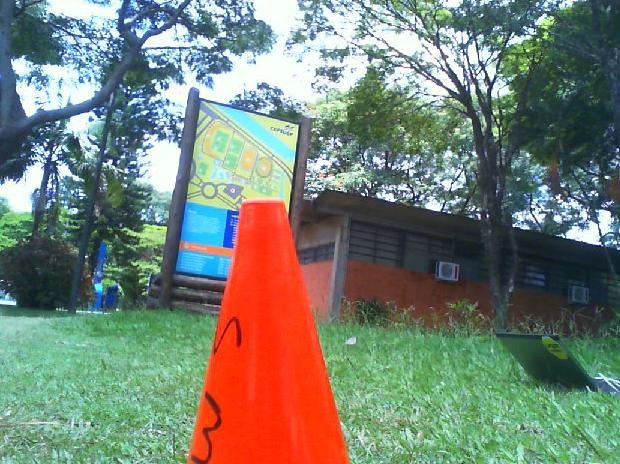0 cone: (185, 199, 353, 464)
